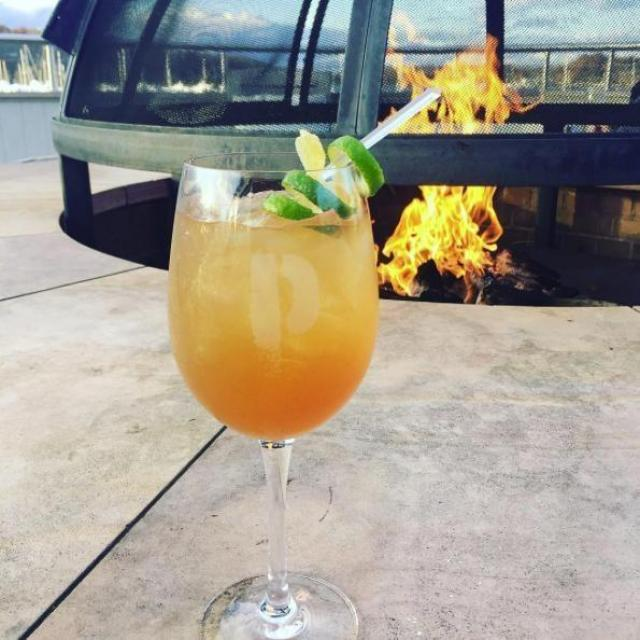glass-wine: (164, 151, 383, 639)
